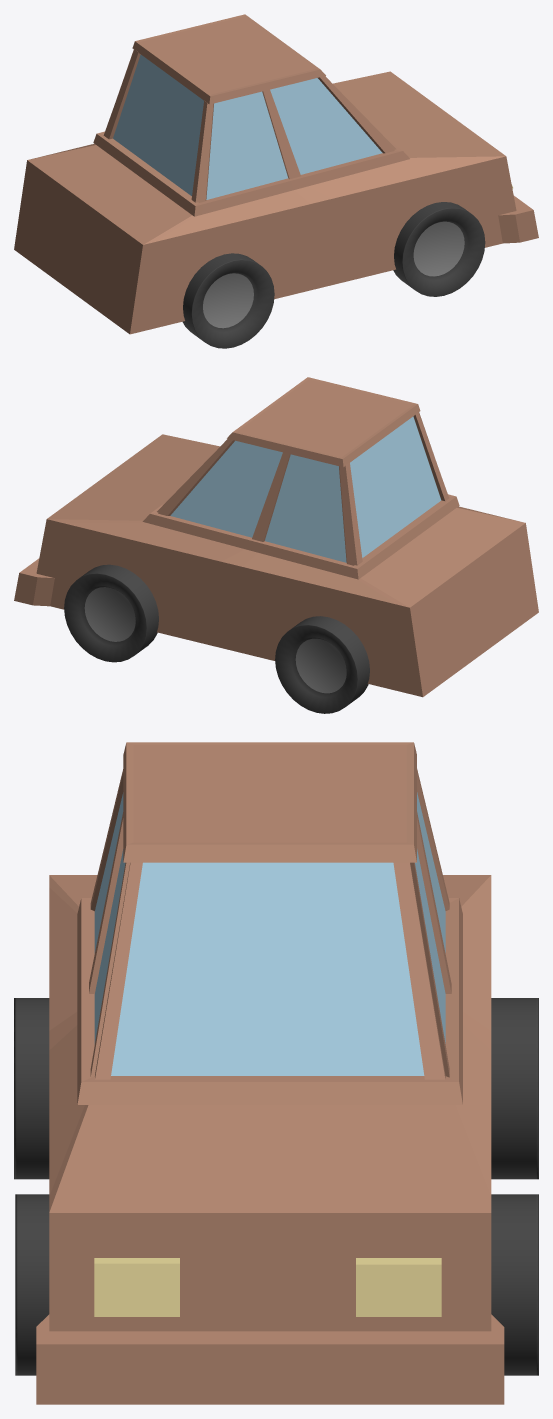
The model's file is car brown.fbx.
3 renders of one model, top to bottom at view 1: azimuth 30°, elevation 25°; view 2: azimuth 150°, elevation 25°; view 3: azimuth 270°, elevation 25°, orthographic. The views are drawn at different scales.
Visible parts, largest first — view 1: Cube.031, Cylinder.034, Cylinder.035; view 2: Cube.031, Cylinder.032, Cylinder.033; view 3: Cube.031, Cylinder.033, Cylinder.032, Cylinder.034, Cylinder.035.
Part boxes in pixels (<box>): Cube.031: <box>14,14,538,334</box>; Cylinder.034: <box>182,253,274,348</box>; Cylinder.035: <box>393,202,485,296</box>; Cube.031: <box>14,377,538,697</box>; Cylinder.032: <box>64,564,158,662</box>; Cylinder.033: <box>275,616,369,713</box>; Cube.031: <box>36,742,504,1404</box>; Cylinder.033: <box>491,998,538,1179</box>; Cylinder.032: <box>491,1194,538,1375</box>; Cylinder.034: <box>14,998,49,1179</box>; Cylinder.035: <box>15,1194,49,1375</box>.
Bounding box in the file's own units: 9.83 × 5.28 × 5.78.
